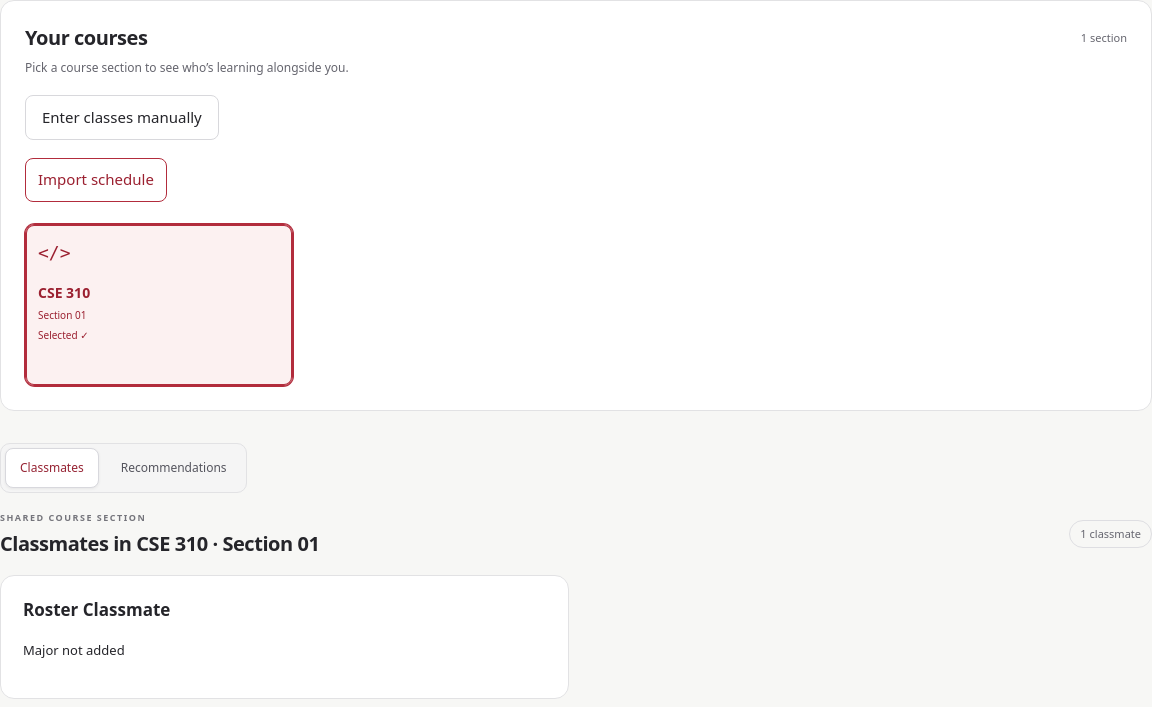
Test: course recommendation dashboard › keeps pending friends in recommendations but hides accepted friends
Click the button "Recommendations": [174, 468] box [106,448,242,488]
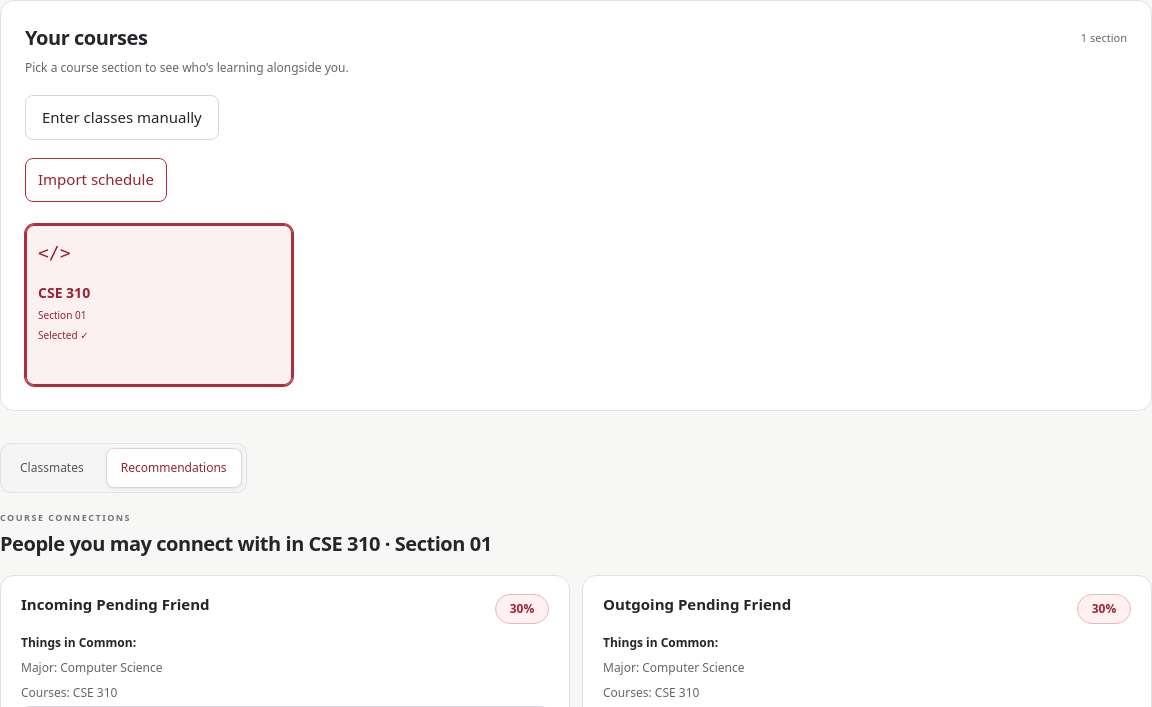
Expected: the heading "Outgoing Pending Friend" is shown, [603,594,791,615]
Expected: the heading "Incoming Pending Friend" is shown, [21,594,210,615]
